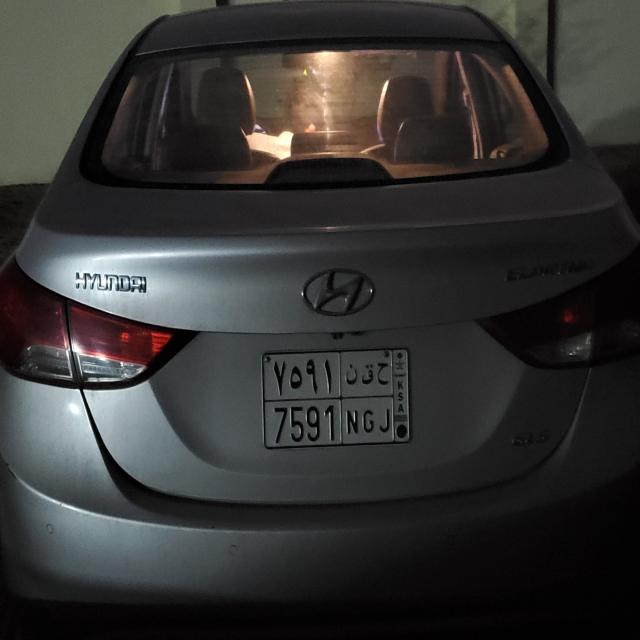license_plate: (260, 346, 412, 452)
